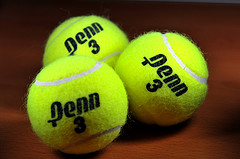tennis ball: (27, 55, 128, 153), (115, 27, 211, 127), (42, 13, 132, 72)
